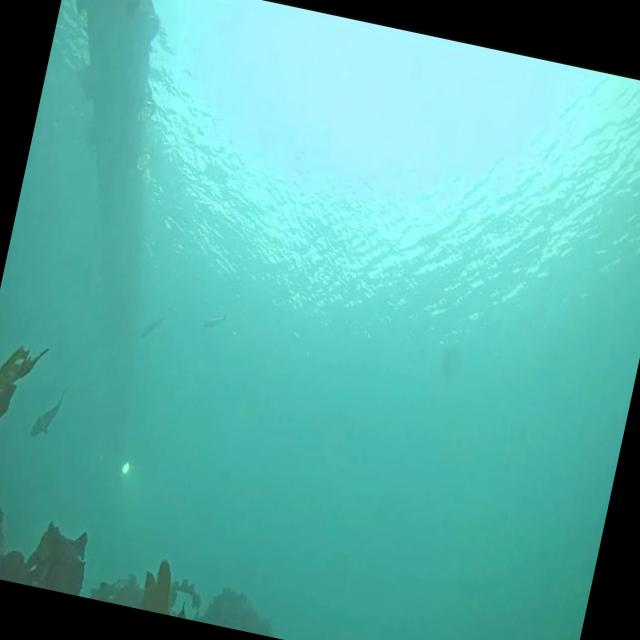fish: (28, 376, 70, 446), (138, 312, 166, 343), (200, 306, 230, 331)
